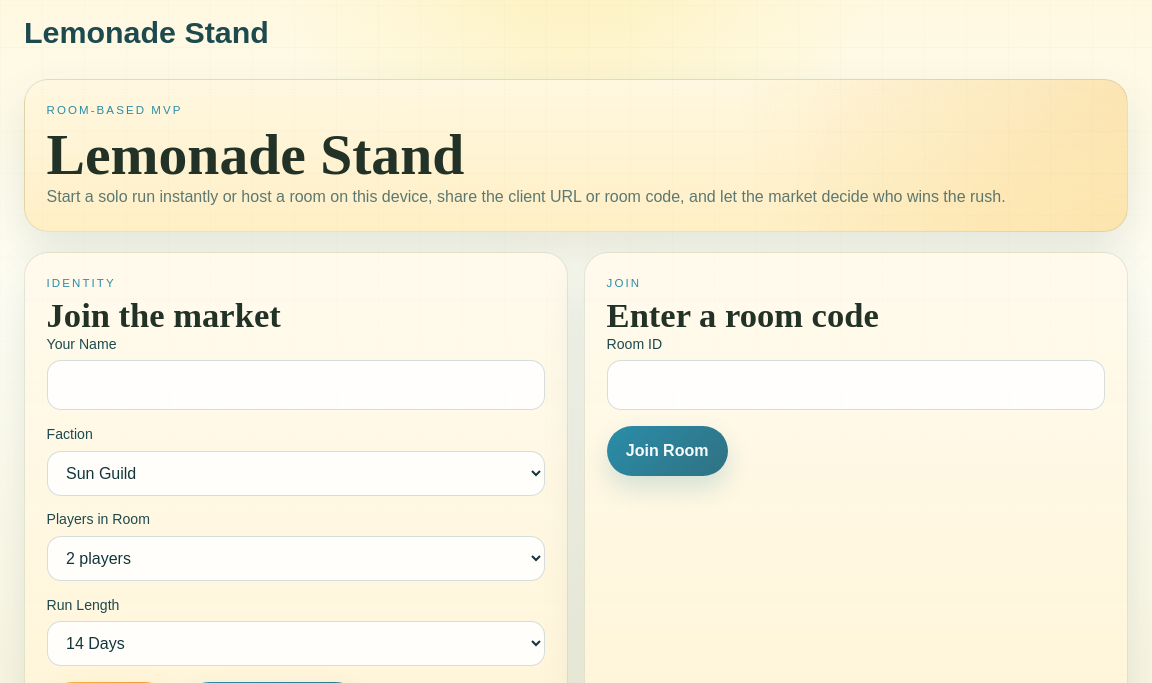
Test: App › shows a thumbs-up reaction for a satisfied purchase after the stand pause resolves
Type "Alex" into the field labelled "Your Name" at (296, 385), box x1=47 y1=360 x2=545 y2=410
(page scrolled)
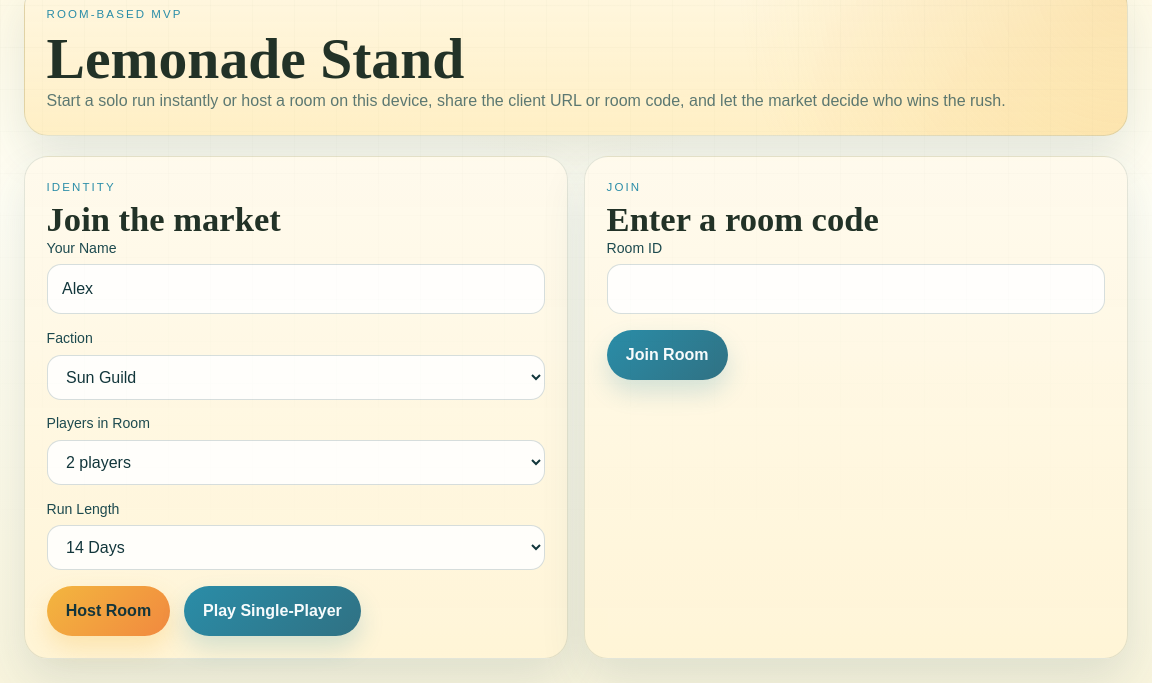
Click the button "Host Room" at (108, 611), box x1=47 y1=586 x2=170 y2=636
Wait 1600 ms
(page scrolled)
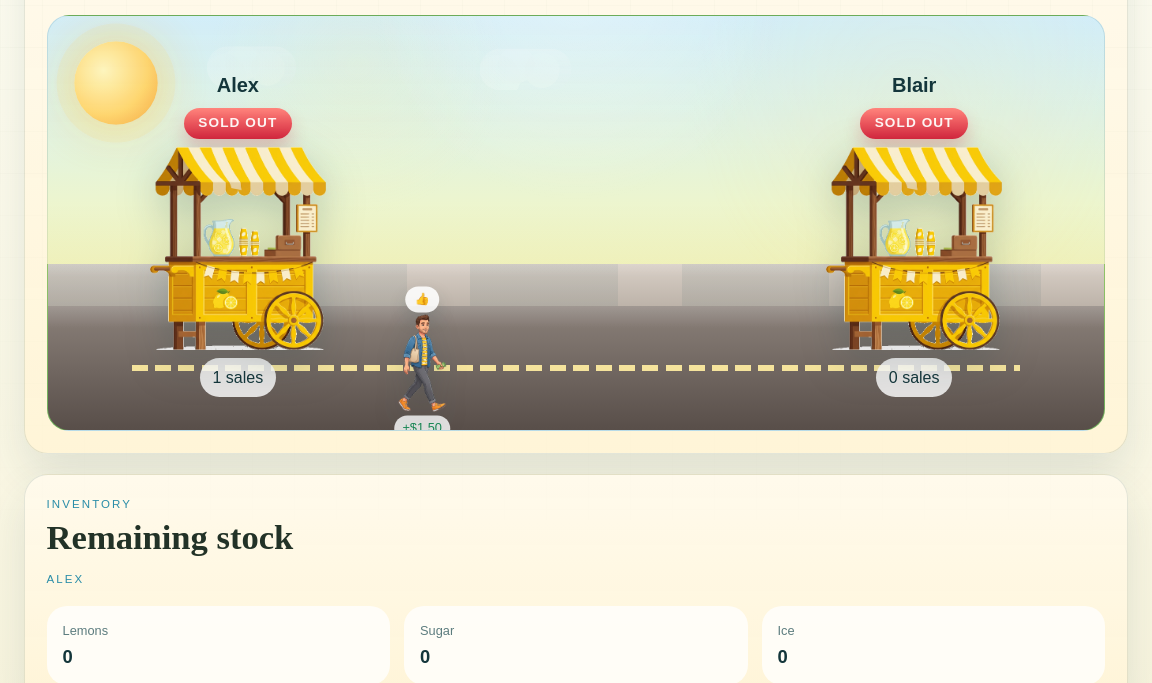
Expected: the text "👍" is shown, x1=405 y1=286 x2=439 y2=312
